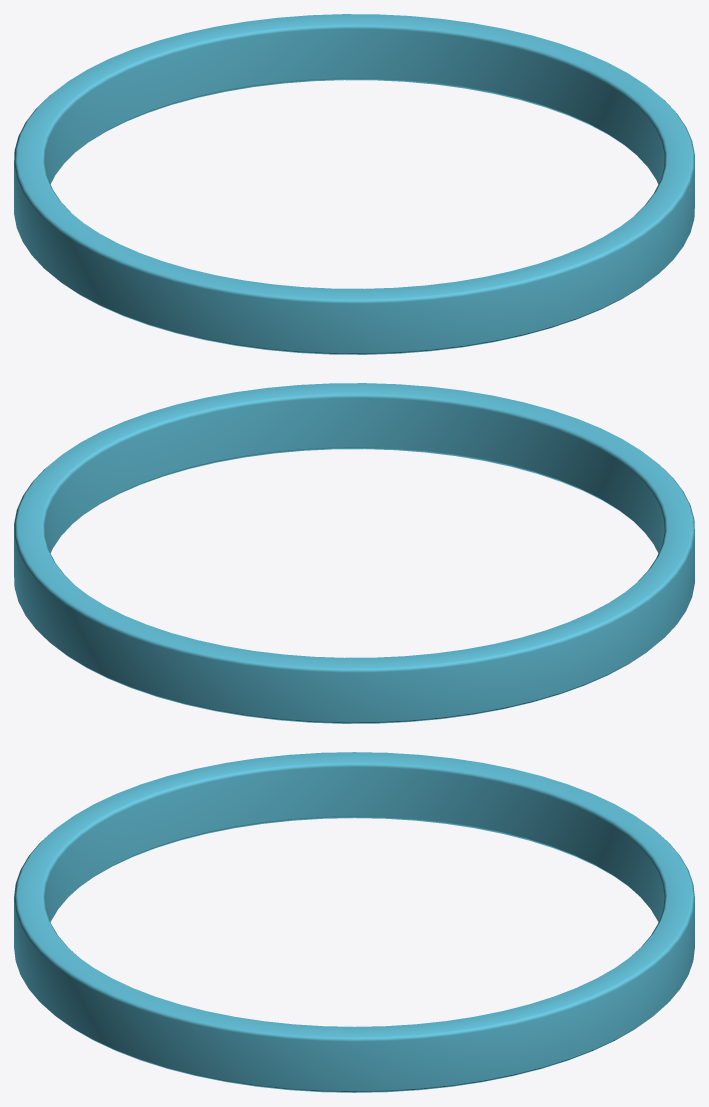
3 views of the same model, one above another, from view 1: azimuth 30°, elevation 25°; view 2: azimuth 150°, elevation 25°; view 3: azimuth 270°, elevation 25° (orthographic).
Parts seen in each view (by area): view 1: seal_body; view 2: seal_body; view 3: seal_body.
Part boxes in pixels (left/top/right/bottom): seal_body: left=14, top=14, right=694, bottom=354; seal_body: left=14, top=383, right=694, bottom=723; seal_body: left=14, top=752, right=694, bottom=1092.
Bounding box in the file's own units: 0.1048 × 0.00952 × 0.1048.
